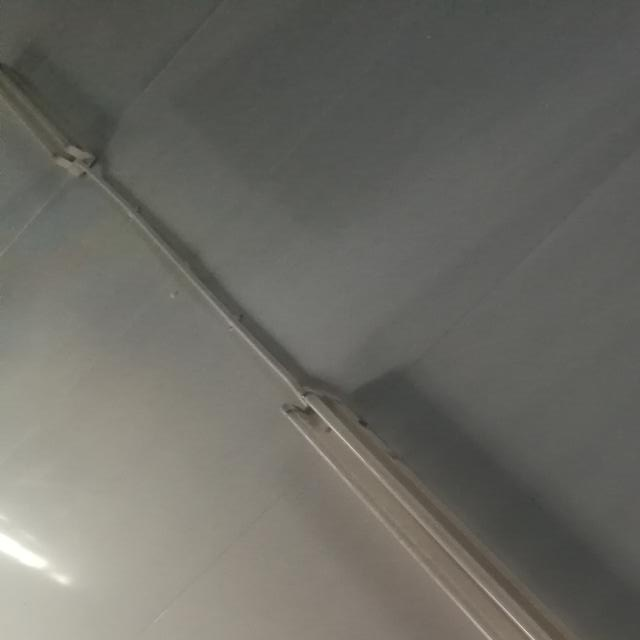fluorescent tube: (252, 372, 640, 640)
